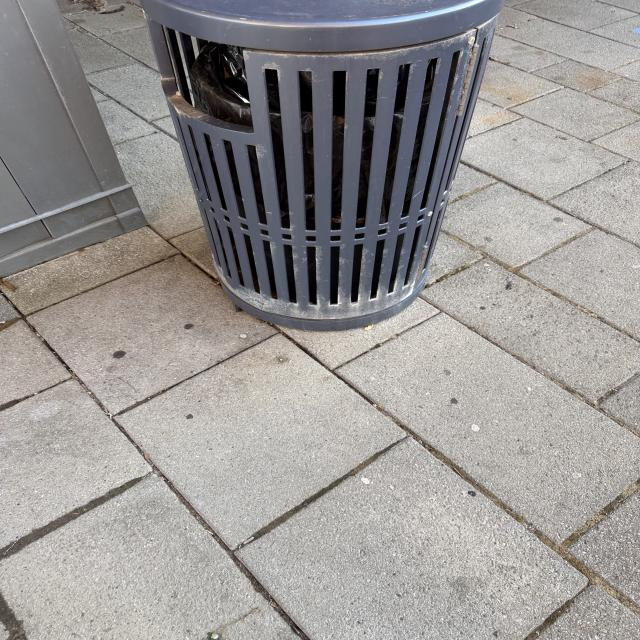Dustbin: (140, 2, 501, 332)
